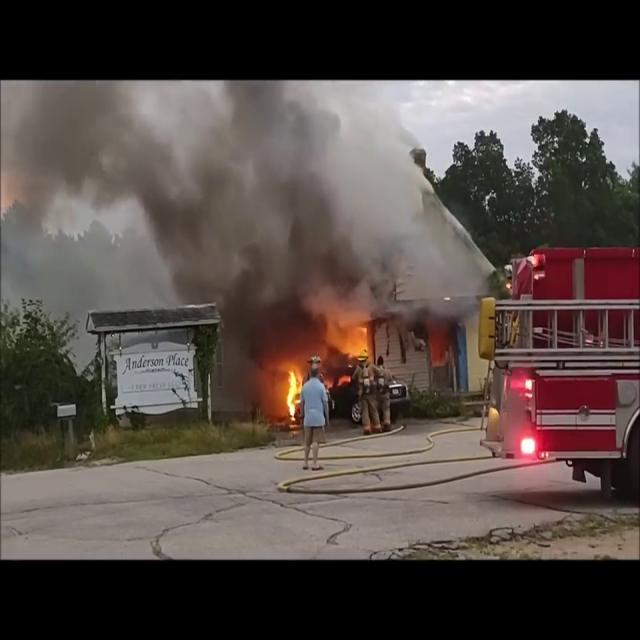Fire: (326, 312, 378, 366), (275, 359, 309, 421)
Smoke: (2, 80, 394, 318), (390, 204, 490, 368)
